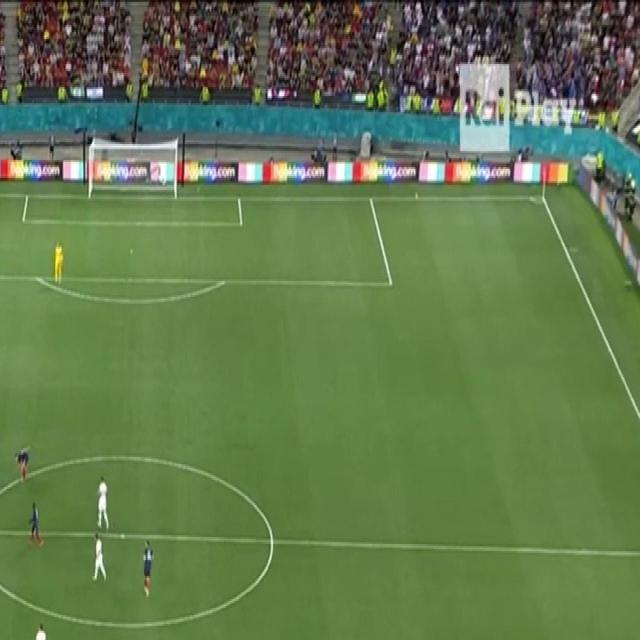another-player: (27, 501, 44, 549), (142, 540, 154, 598), (14, 444, 30, 483)
player-white: (96, 473, 110, 531), (92, 533, 108, 583), (32, 620, 47, 640)
referee: (53, 237, 64, 285)
